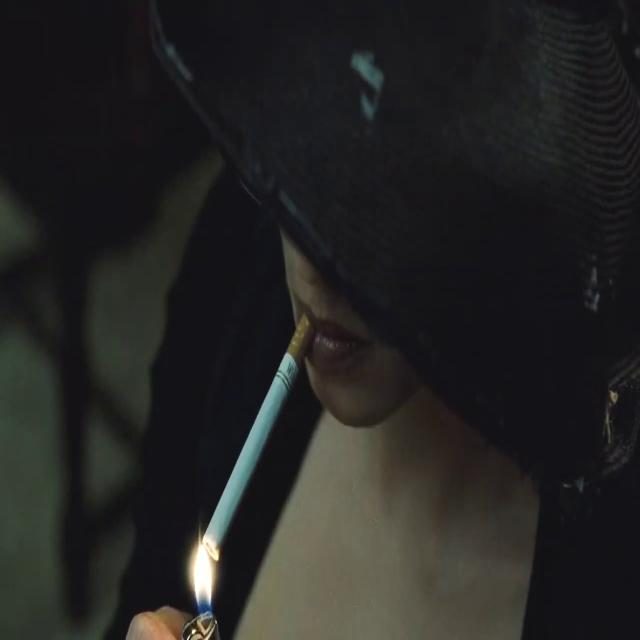Smooking: (186, 289, 325, 564)
